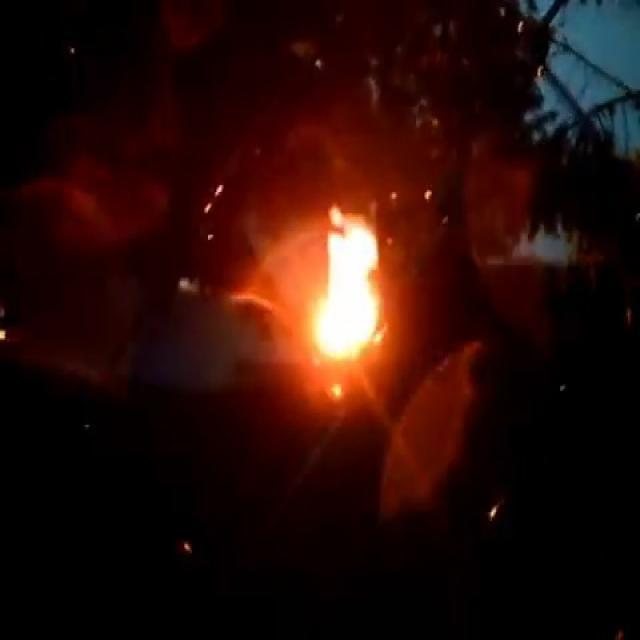Fire: (300, 202, 396, 376)
Smoke: (229, 71, 452, 236)
